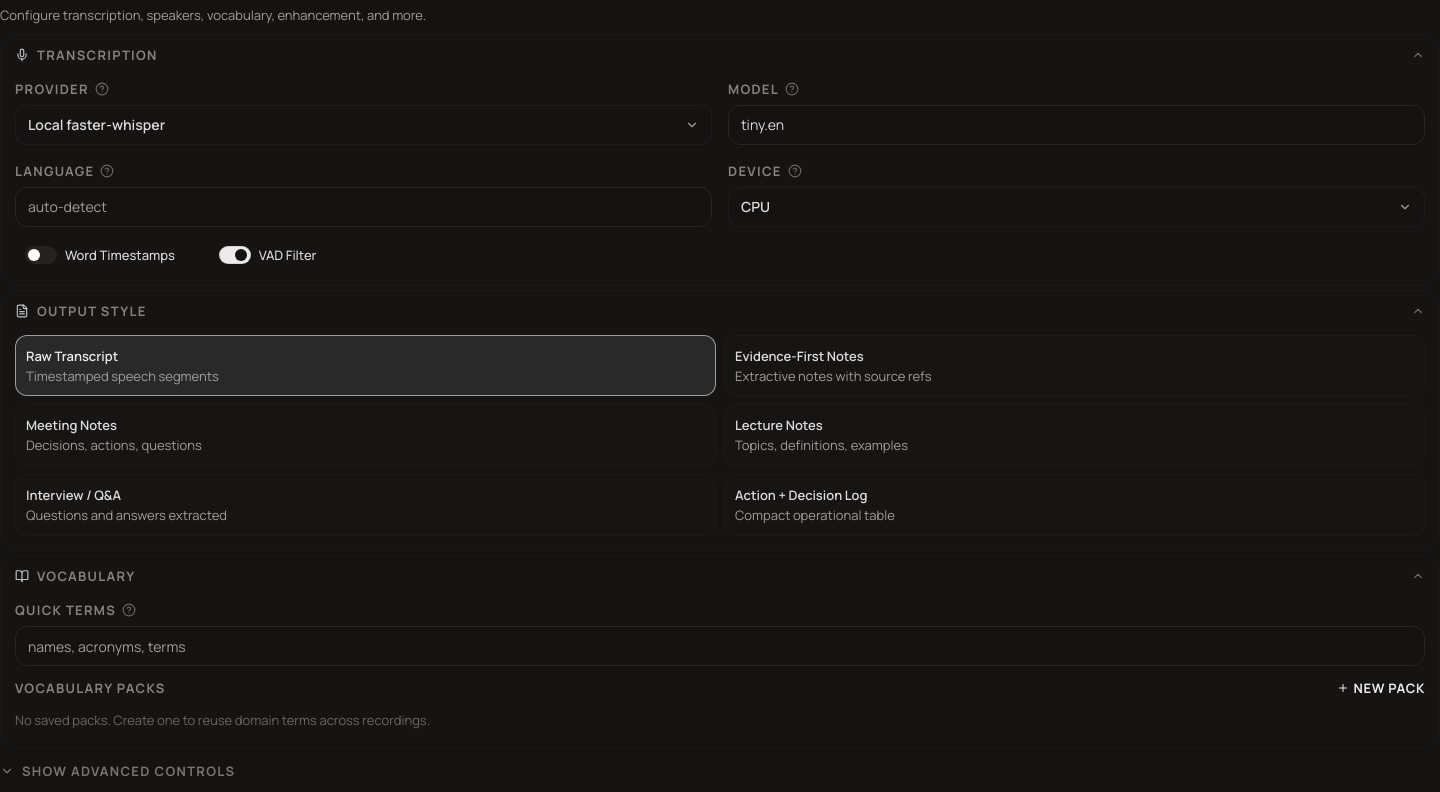
Test: AudioAdvancedSettings › shows enhancement controls when text enhancement enabled
// Open advanced controls to reveal Enhancement section
Click the button "Show Advanced Controls".
click(129, 771)  # box [0, 753, 1439, 789]
(page scrolled)
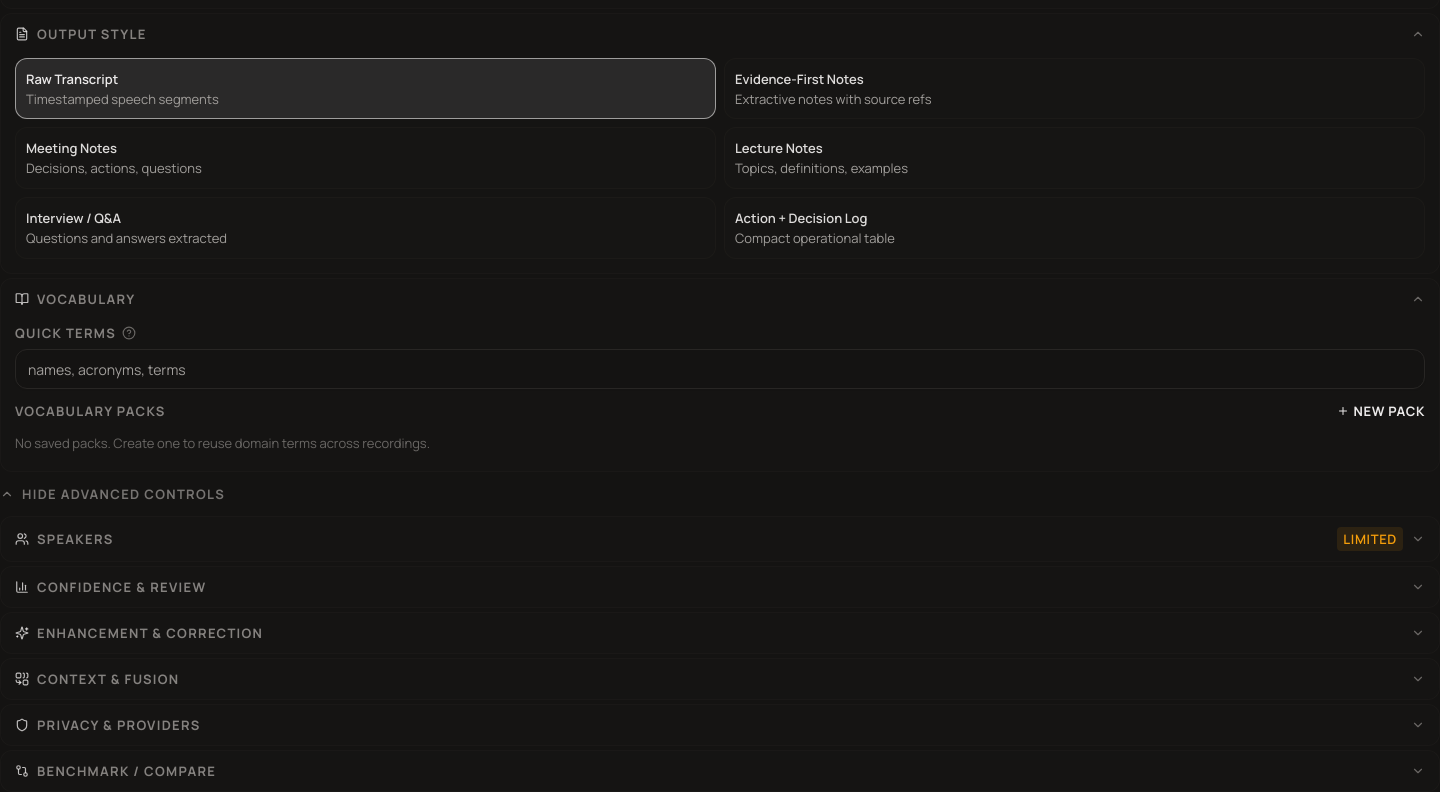
// Click Enhancement section header to expand it
Click the button "Enhancement & Correction".
click(150, 633)  # box [1, 613, 1439, 653]
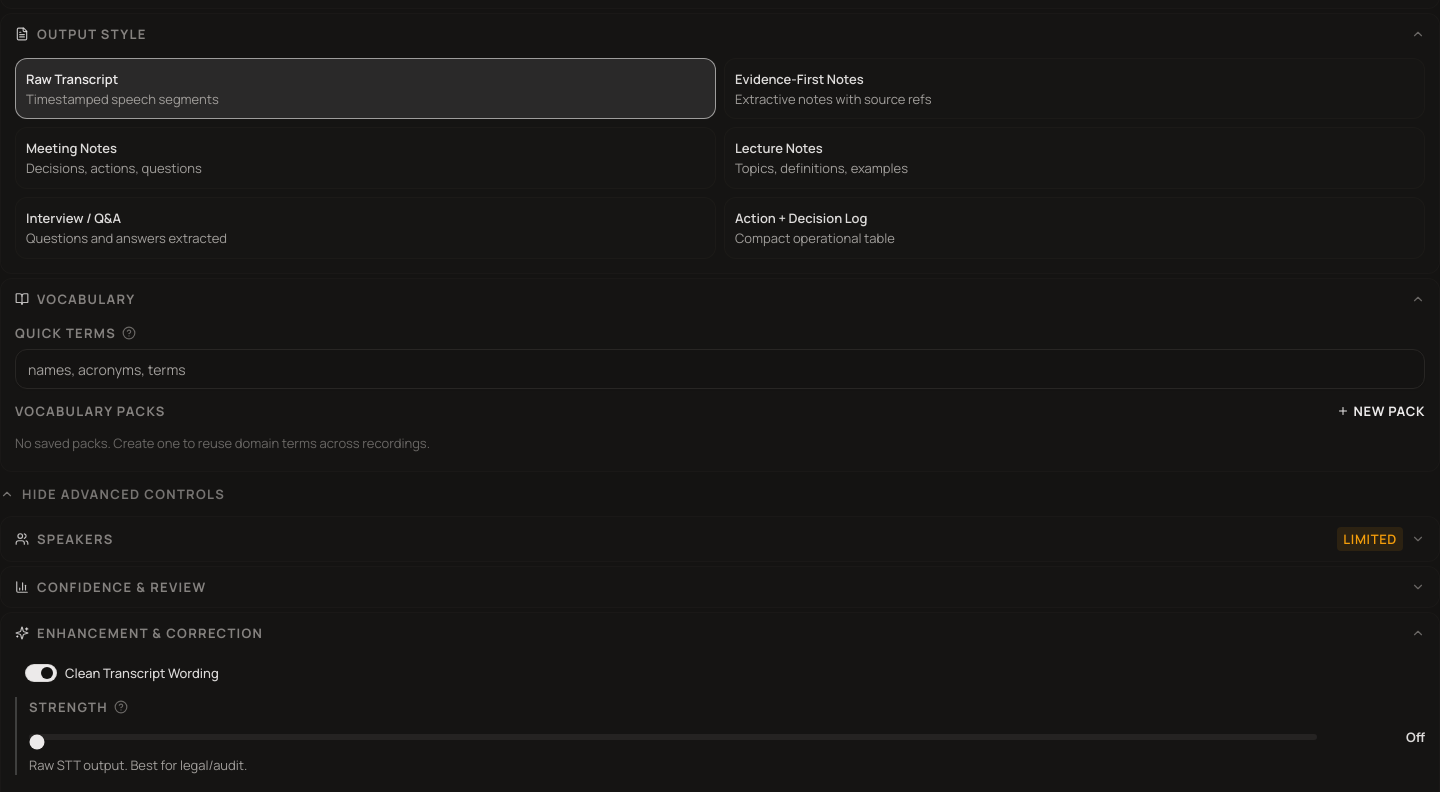
Now the text "Strength" is shown, box [29, 697, 108, 717]
